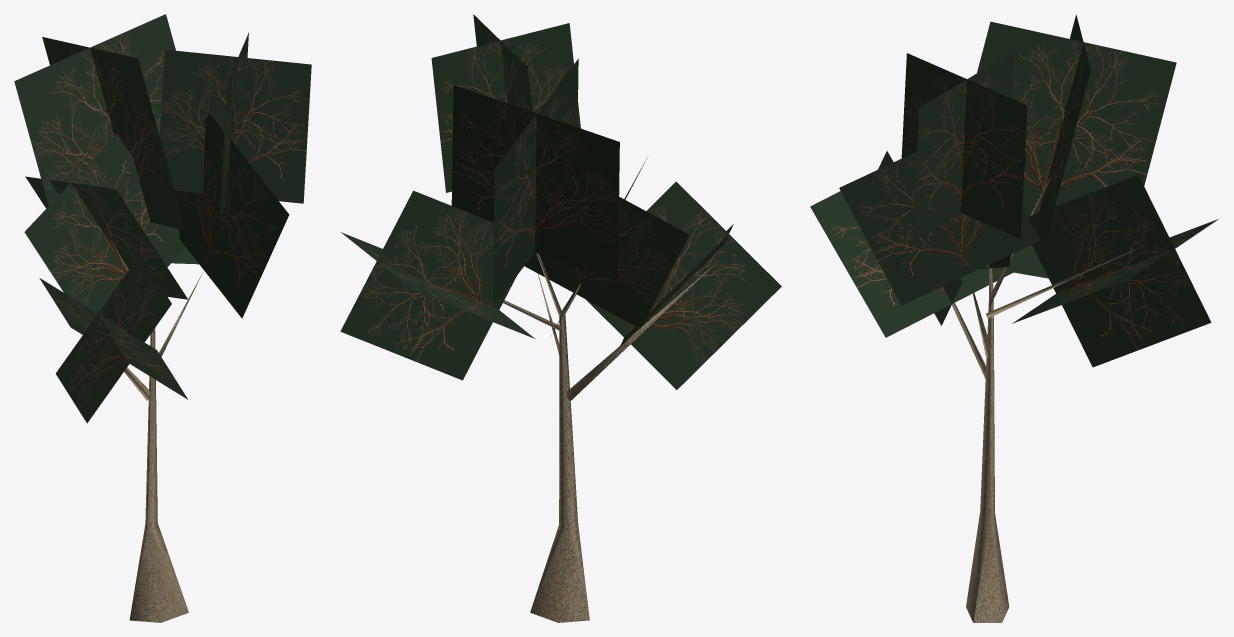
Rendered from decd_mapletreebranches_l2.fbx.
The picture shows the model from 3 angles, left to right: view 1: azimuth 30°, elevation 25°; view 2: azimuth 150°, elevation 25°; view 3: azimuth 270°, elevation 25°; orthographic projection. The views are drawn at different scales.
Visible parts, largest first — view 1: mesh_node; view 2: mesh_node; view 3: mesh_node.
Part boxes in pixels (<box>): mesh_node: <box>14,14,311,622</box>; mesh_node: <box>340,14,781,622</box>; mesh_node: <box>810,14,1218,622</box>.
Size of the model in its own units: 9.66 by 16.47 by 10.56.
2 materials, 2 textured.
